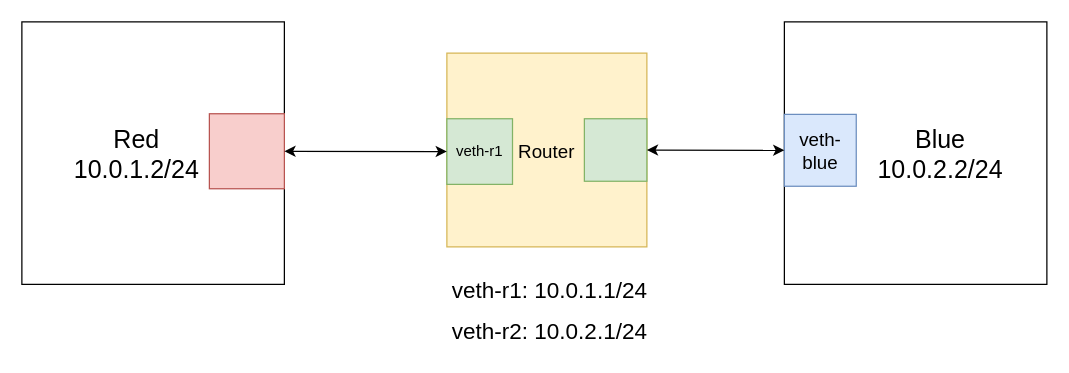
Some shapes in this 1069 by 373 pixel diagram are drawn without their labels. Here are the shapes that lost their labels. From the top down, the centre of each, then its label:
point 246,150: veth-red
point 615,149: veth-r2
